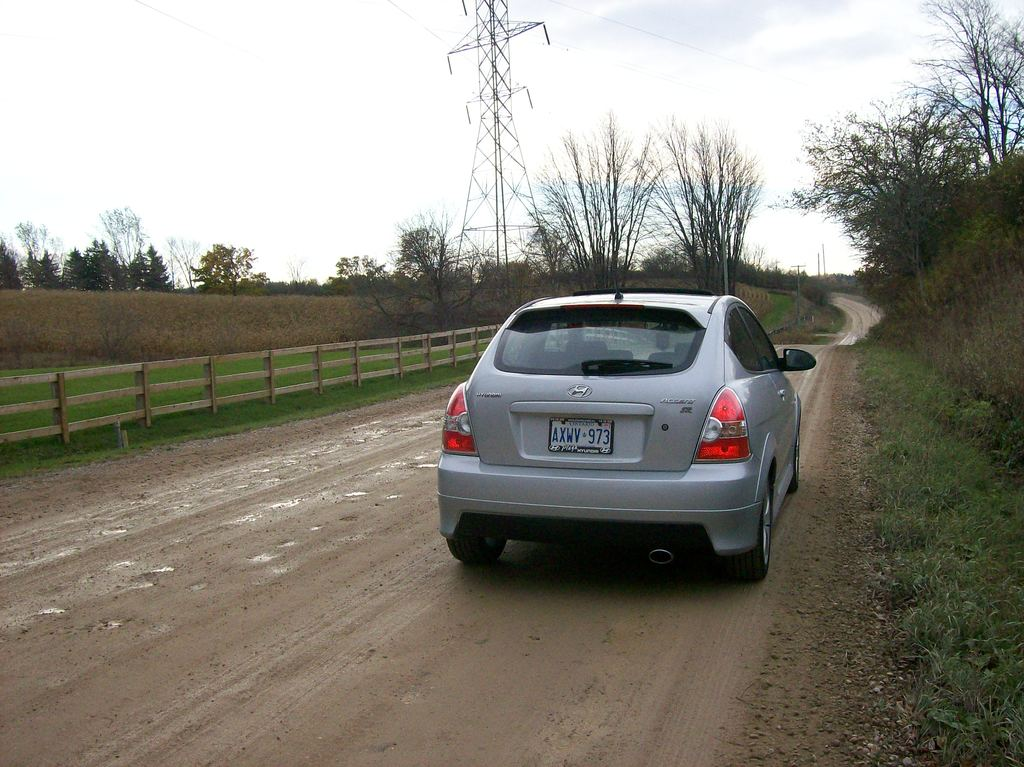Car: (424, 281, 819, 588)
